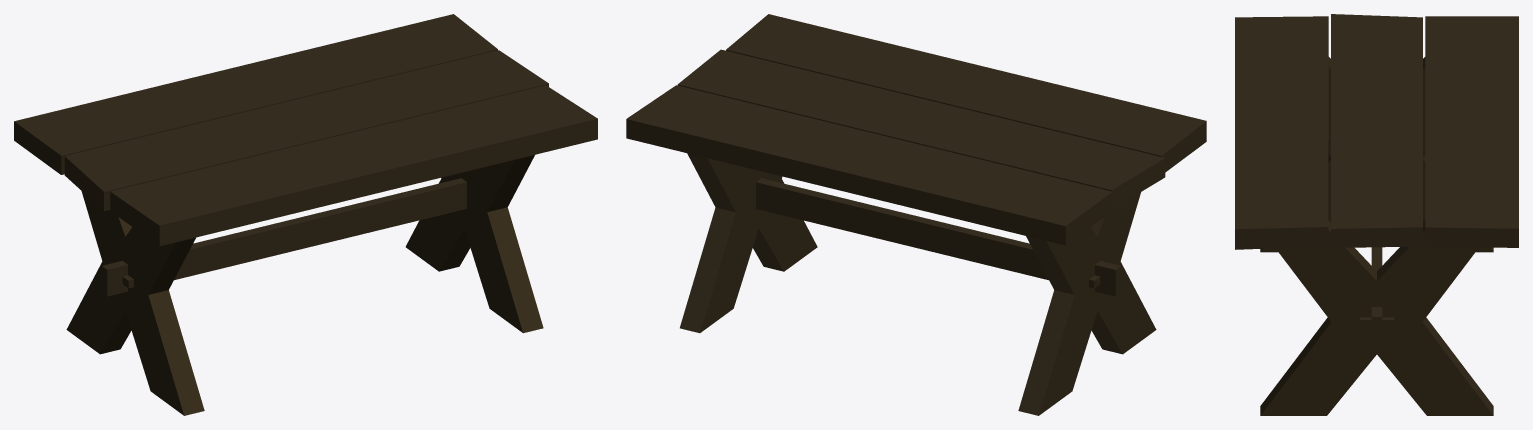
3 views of the same model, side by side, from view 1: azimuth 30°, elevation 25°; view 2: azimuth 150°, elevation 25°; view 3: azimuth 270°, elevation 25° (orthographic).
Visible parts, largest first — view 1: Box033; view 2: Box033; view 3: Box033.
Boxes of the visible parts, x1=… form: Box033: x1=14, y1=14, x2=597, y2=415; Box033: x1=626, y1=14, x2=1206, y2=415; Box033: x1=1235, y1=14, x2=1518, y2=415.
Bounding box in the file's own units: 2.17 × 0.9746 × 1.21.
